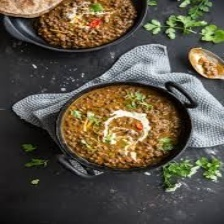roti: (0, 0, 62, 19)
